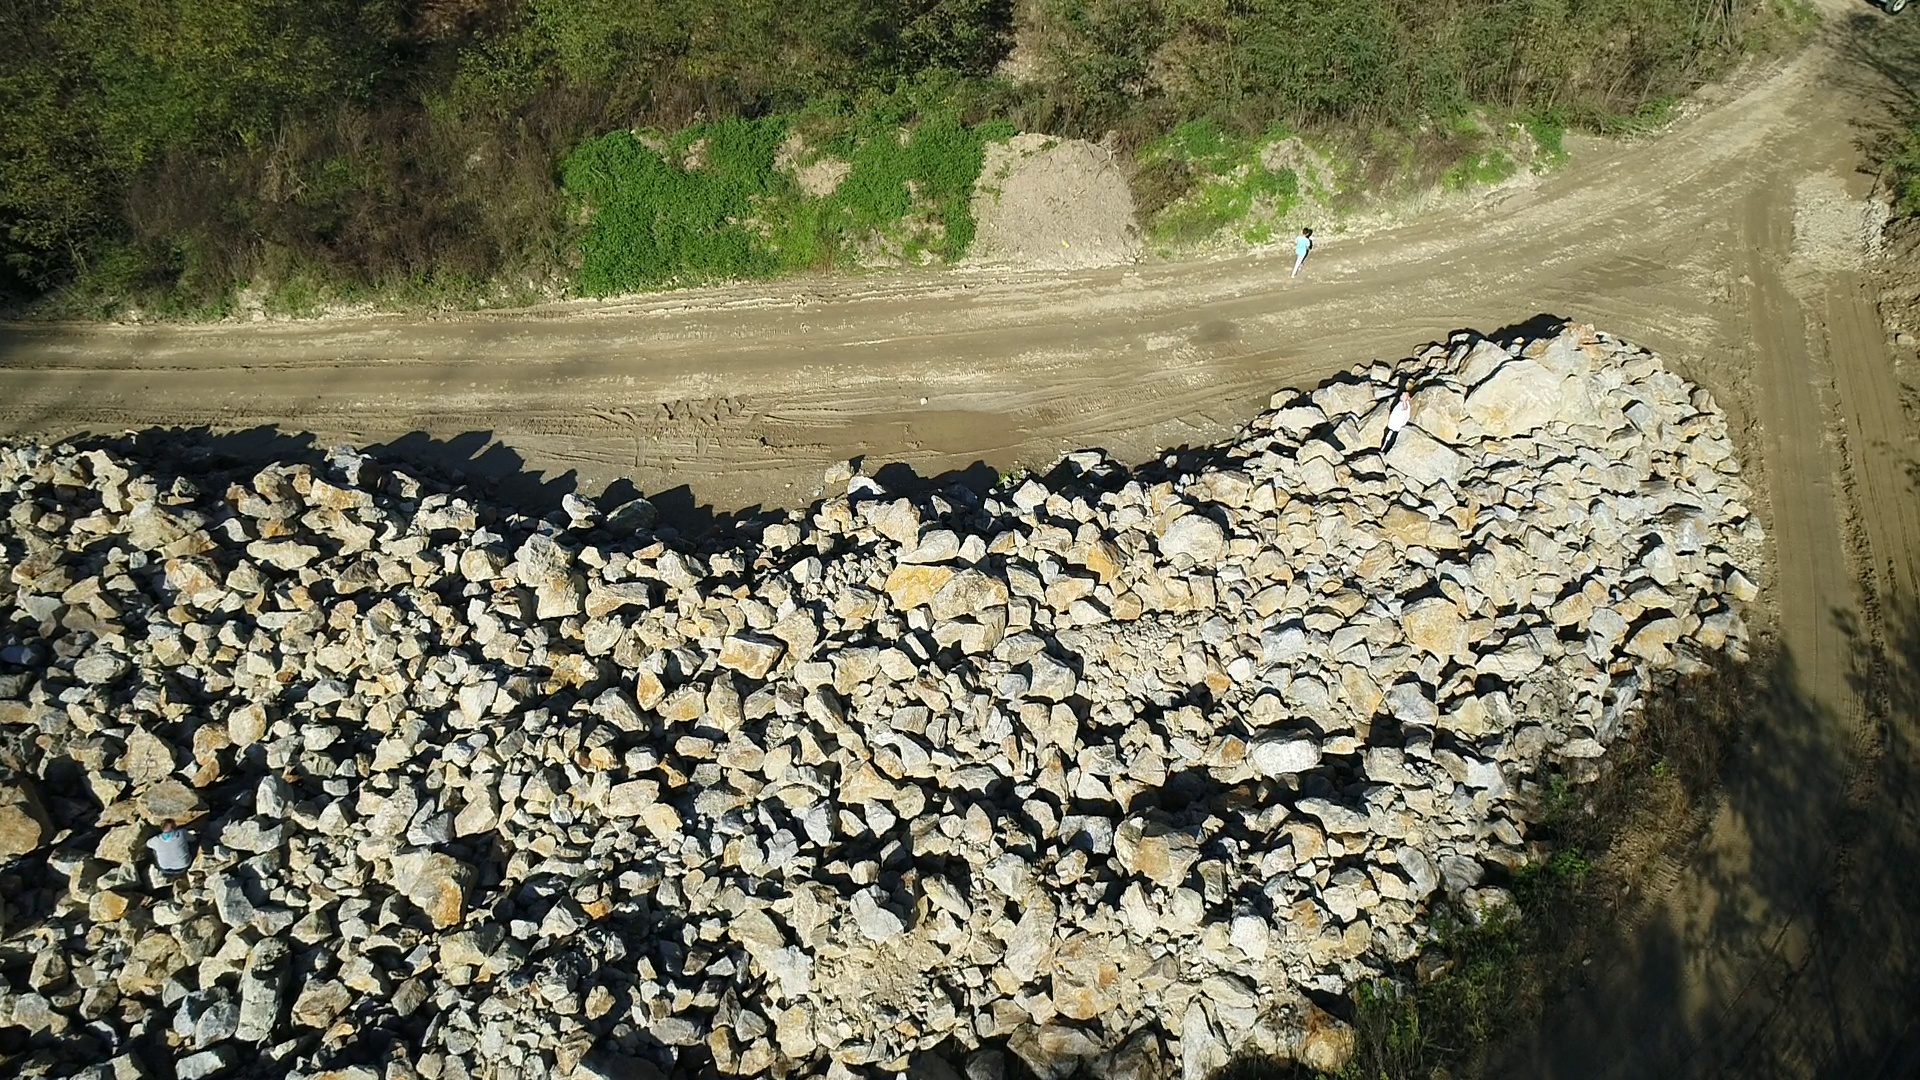person: (146, 817, 195, 877), (1378, 391, 1411, 453), (1290, 226, 1311, 278)
